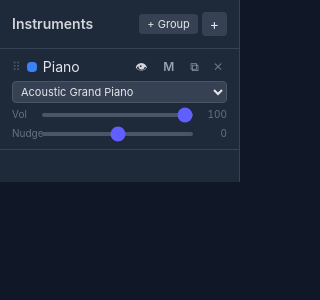
Test: InstrumentsPanel › adds an instrument
Click the button named "Add instrument": click(214, 24) [202,12,227,36]
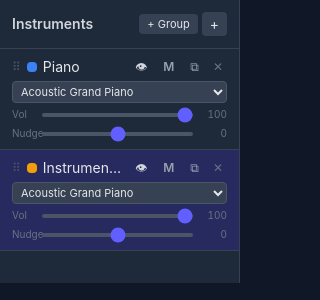
Now the text "Instrument 2" is shown, box [43,158,125,178]
